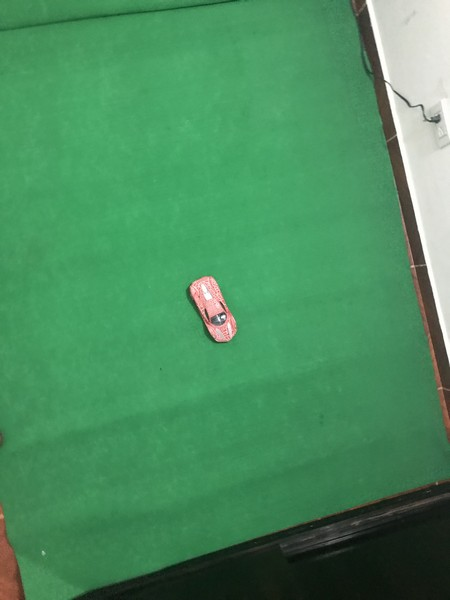RC: (186, 276, 239, 347)
